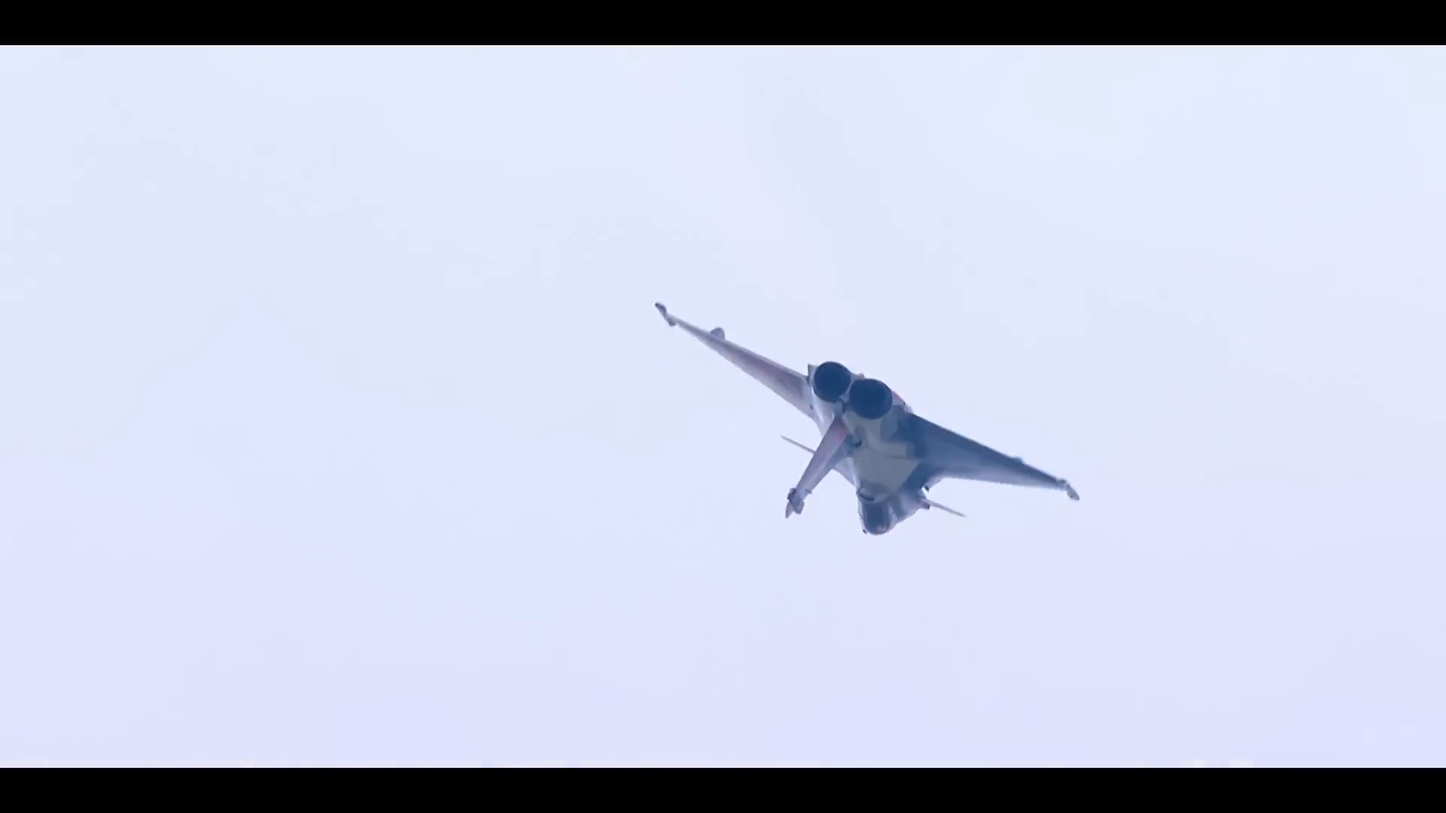Rafale: (649, 296, 1087, 539)
